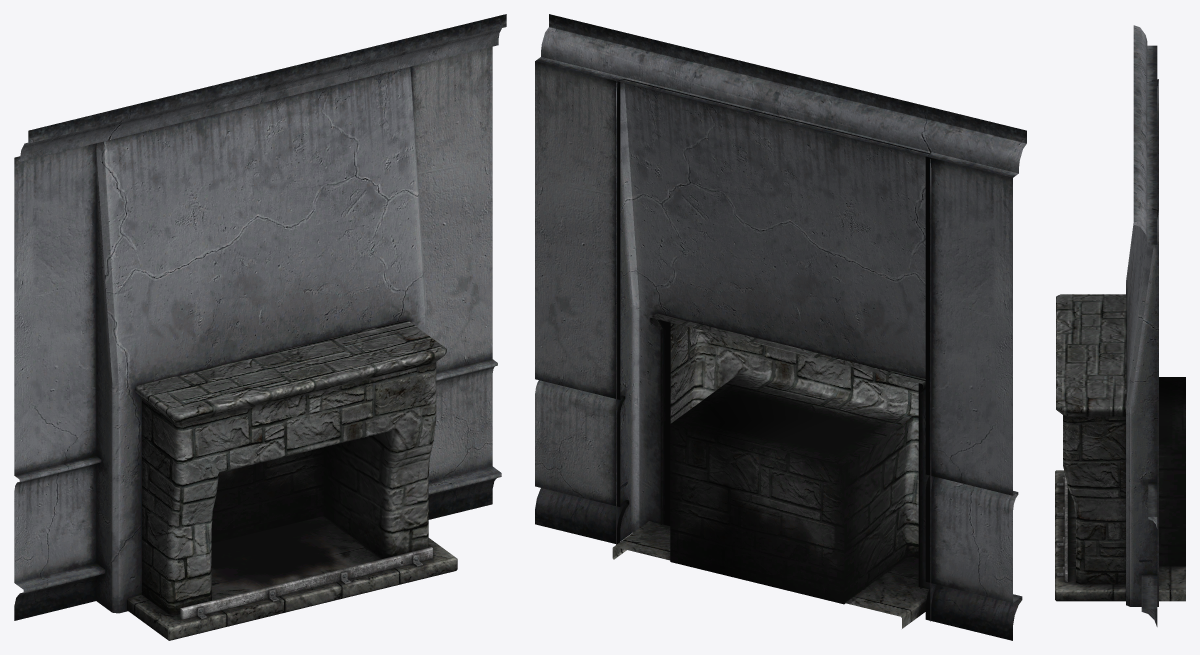
Rendered from wall_stove_blue.dae.
3 views of the same model, side by side, from view 1: azimuth 30°, elevation 25°; view 2: azimuth 150°, elevation 25°; view 3: azimuth 270°, elevation 25° (orthographic). The views are drawn at different scales.
Parts seen in each view (by area): view 1: mansionbase_wall_stove; view 2: mansionbase_wall_stove; view 3: mansionbase_wall_stove.
Boxes of the visible parts, x1,y1,x2,y2 form: mansionbase_wall_stove: [14, 14, 506, 640]; mansionbase_wall_stove: [535, 14, 1026, 640]; mansionbase_wall_stove: [1055, 25, 1185, 626].
Size of the model in its own units: 4 by 4 by 1.11.
